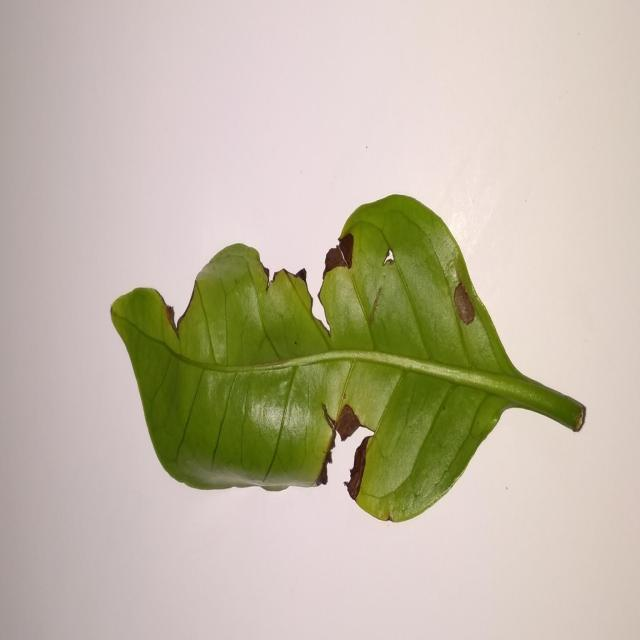Enfermedad-Antracnosis: (108, 195, 588, 526)
